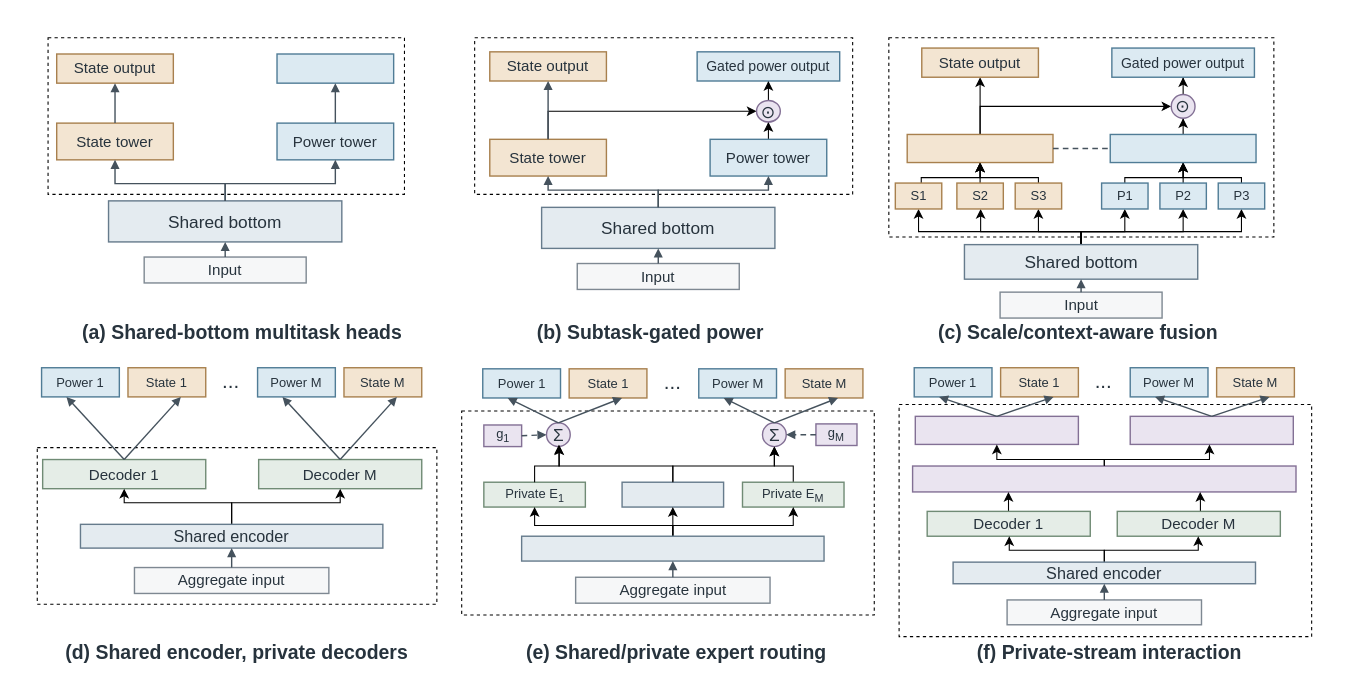
This 1353x687 diagram has some shape labels left out. The shapes that lost their labels are listed below. From the top down, each one's centre as x and y in pixels, then its label:
At [335,68]: "Power output".
At [979,148]: "State fusion".
At [1182,148]: "Power fusion".
At [996,430]: "Refine 1".
At [1211,430]: "Refine M".
At [672,494]: "Shared E s".
At [1103,478]: "Cross-appliance feature interaction".
At [672,548]: "Shared representation".
